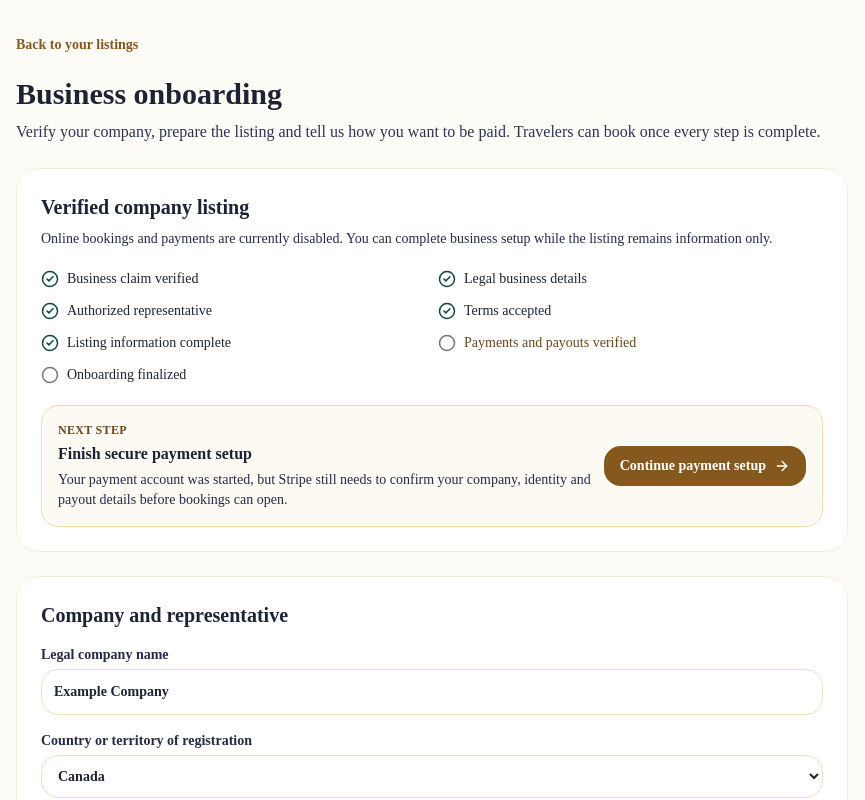
Test: requires saved company details before connecting even when both countries are enabled
Select "United States" in the dropdown labelled "Country or territory of registration": (432, 776) [41, 755, 823, 798]
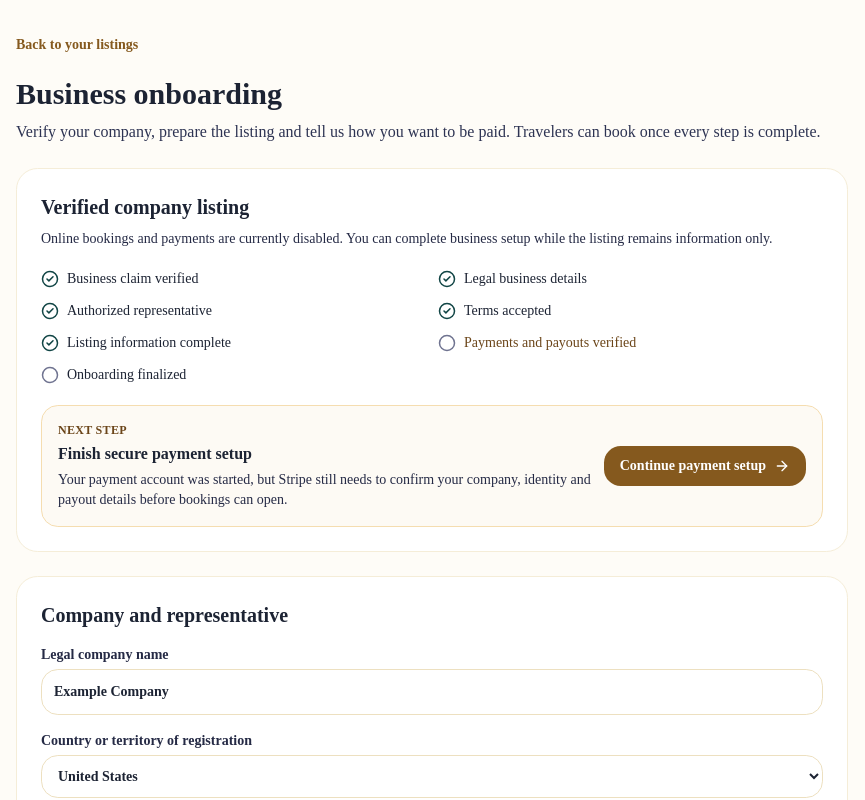
Select "Canada" in the dropdown labelled "Country or territory of registration": (432, 776) [41, 755, 823, 798]
(page scrolled)
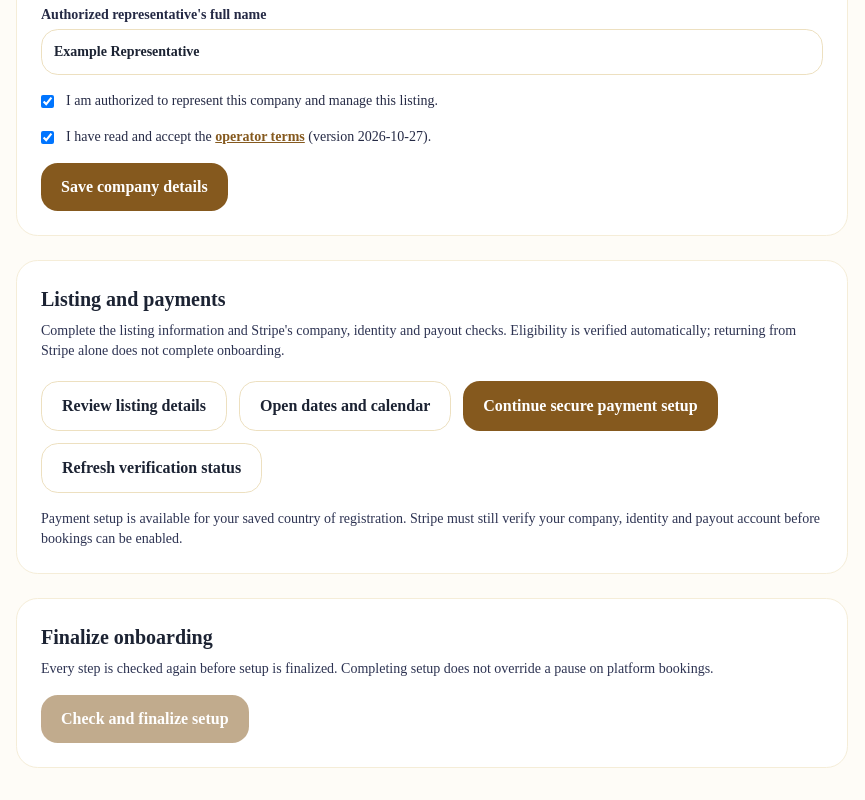
Expected: the button "Continue secure payment setup" is enabled, [463, 381, 718, 431]
